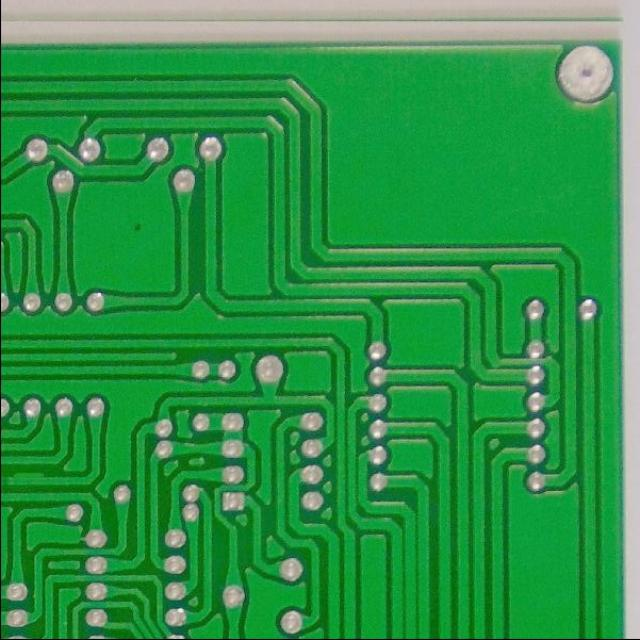Spur: (9, 466, 50, 491)
